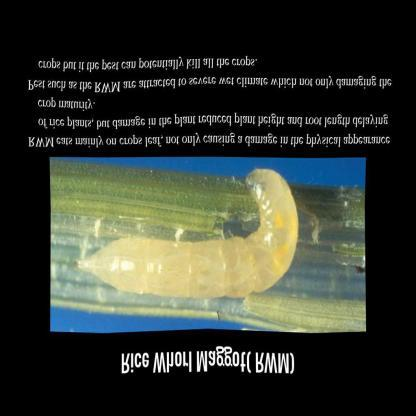whorl-maggot: (71, 165, 301, 305)
